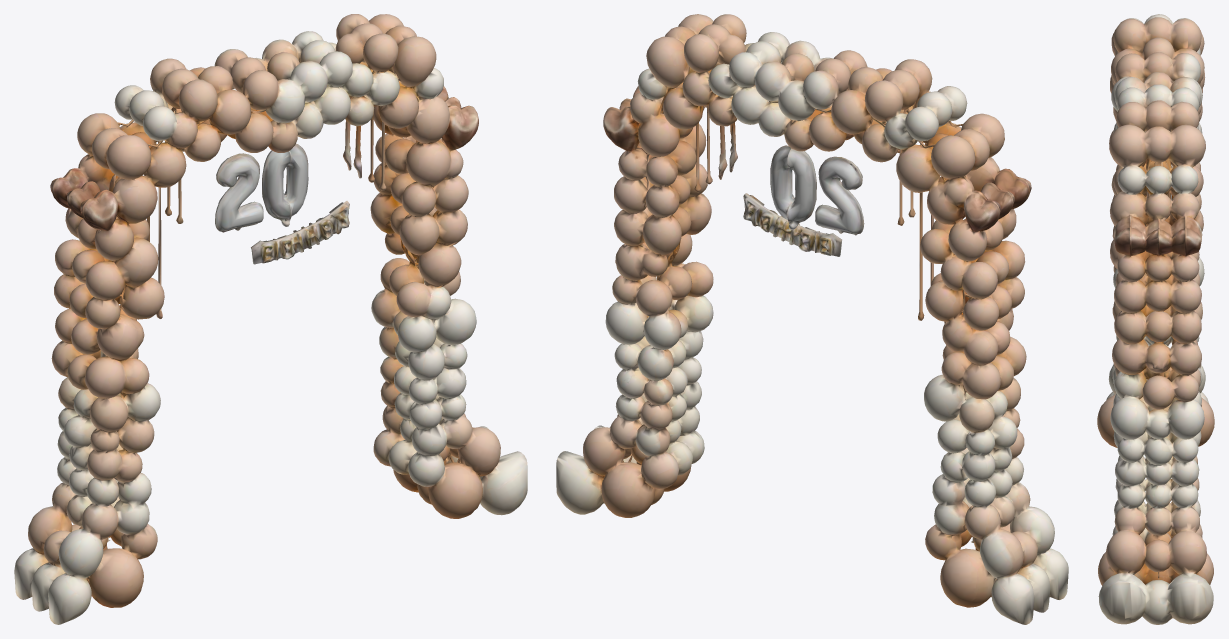
File: arch.glb
3 renders of one model, left to right at view 1: azimuth 30°, elevation 25°; view 2: azimuth 150°, elevation 25°; view 3: azimuth 270°, elevation 25°, orthographic. The views are drawn at different scales.
Visible parts, largest first — view 1: node_0; view 2: node_0; view 3: node_0.
Boxes of the visible parts, box(x1,y1,x2,y2) form: node_0: box(14, 14, 527, 624); node_0: box(556, 14, 1068, 624); node_0: box(1097, 14, 1214, 624).
Size of the model in its own units: 0.8336 by 0.8583 by 0.1944.
1 material, 1 textured.
